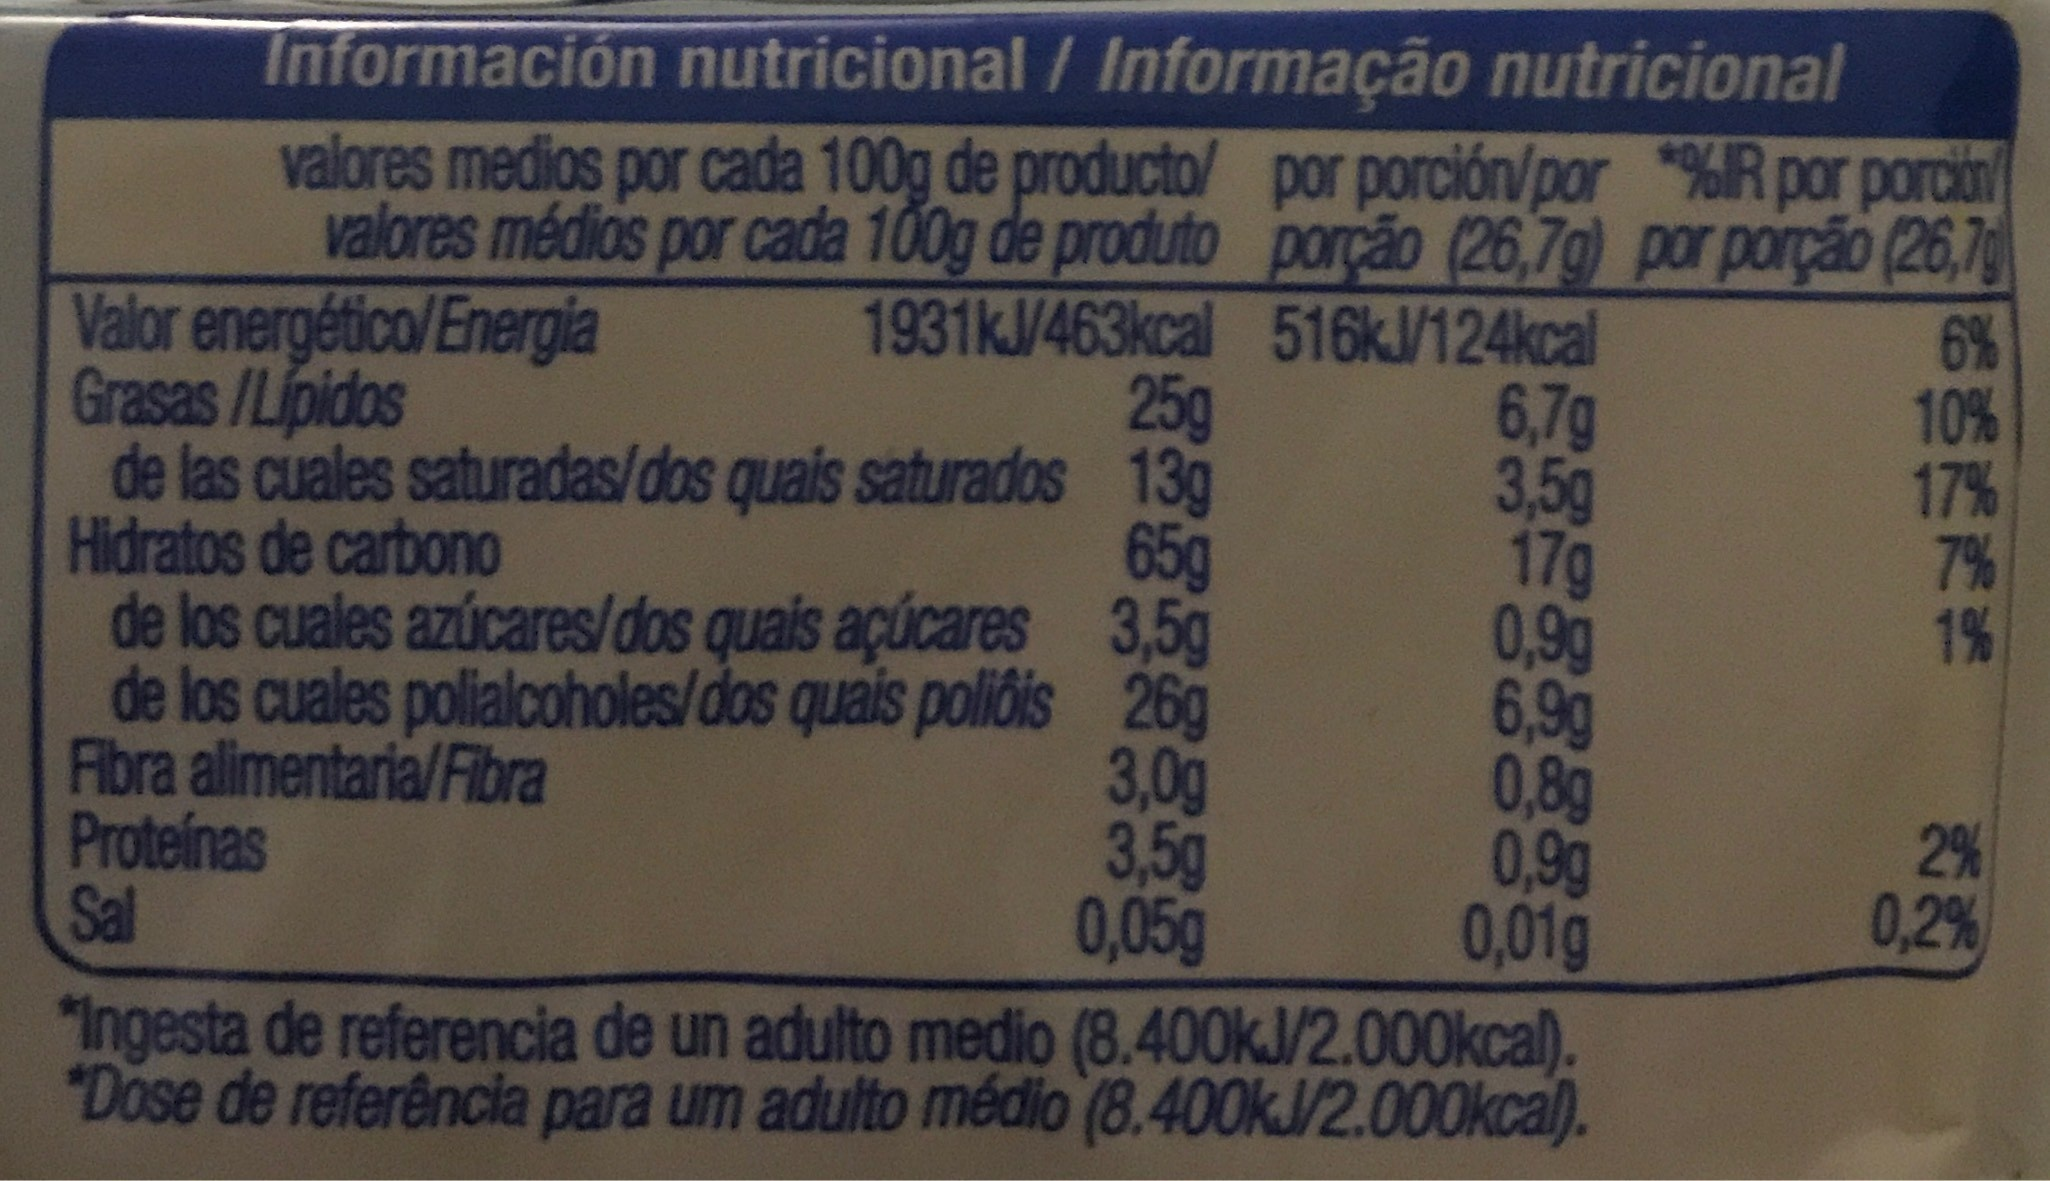column: (51, 122, 1225, 975), (1635, 138, 2009, 978), (1259, 132, 1615, 975)
table: (23, 13, 2032, 997)
